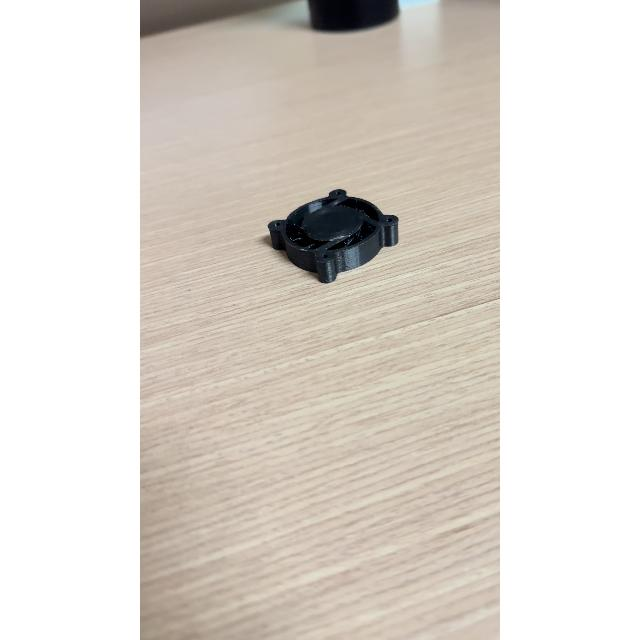Pieza_4: (252, 176, 414, 296)
